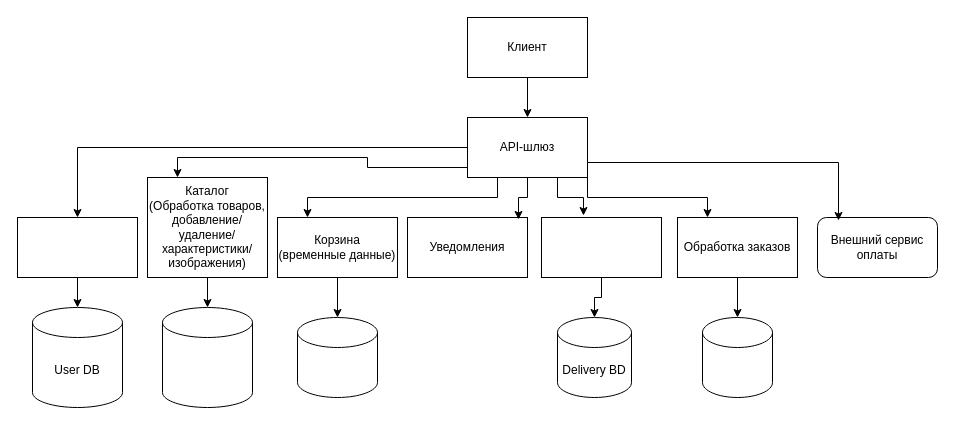
This 955x425 diagram has some shape labels left out. The shapes that lost their labels are listed below. From the top down, each one's centre as x and y in pixels, then its label:
At (77,247): "User Service (Авторизация, роли)".
At (601,247): "Доставка (Логистика/отслеживание/расчет стоимости)".
At (207,357): "Product DB".
At (337,357): "Cart BD".
At (737,357): "Order Bd".
